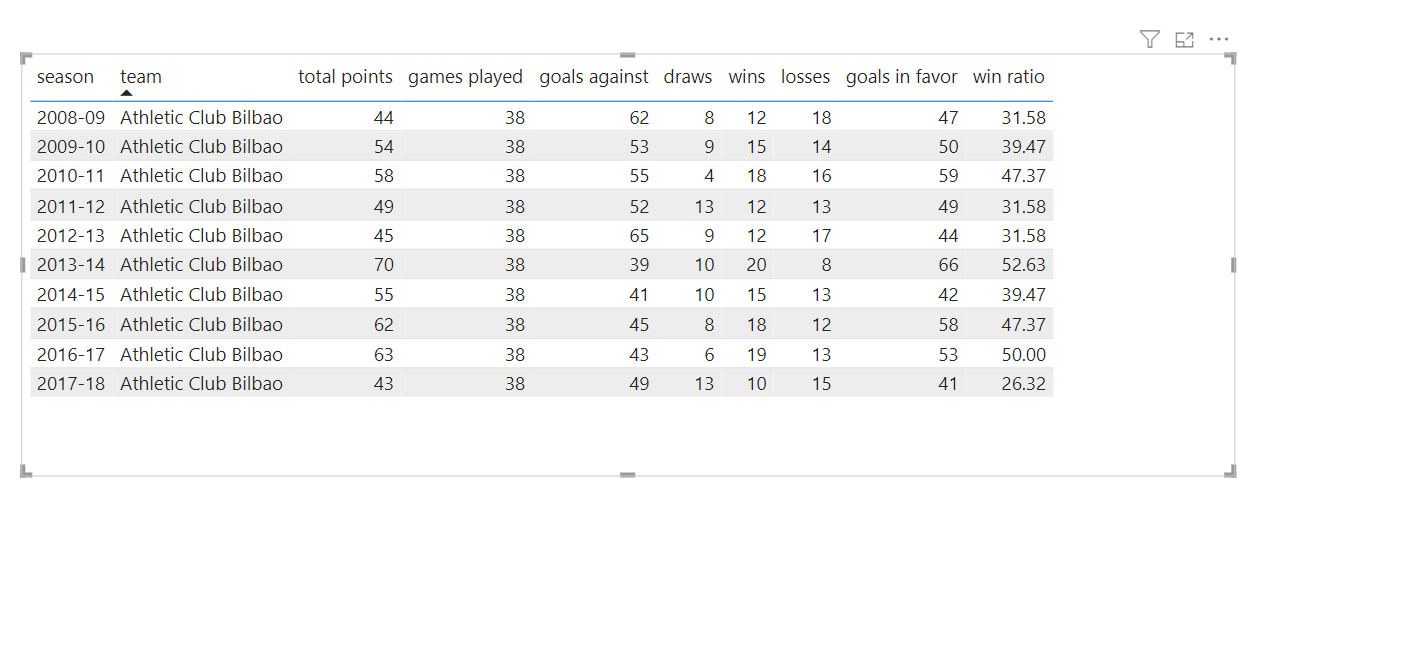

The page's visual inventory and layout, read from the dashboard file:
{"tool":"powerbi","page":{"name":"Page 1","canvas":[1280,720],"ordinal":0},"visuals":[{"type":"tableEx","fields":{"Values":["cds season_data.season","cds season_data.team","cds season_data.total_points","cds season_data.games_played","cds season_data.goals_against","cds season_data.draws","cds season_data.wins","cds season_data.losses","cds season_data.goals_favor","cds season_data.win_ratio"]},"box":[174.4,161.2,859.8,299.3],"z":0}]}

Visuals, with their boxes on the page's 1280x720 design canvas (x1, y1, x2, y2). These are canvas units, not pixel positions in the 1403x652 screenshot, which may show the page scaled, cropped or inside an application window:
tableEx - cds season_data.season x cds season_data.team: BBox(174, 161, 1034, 460)
